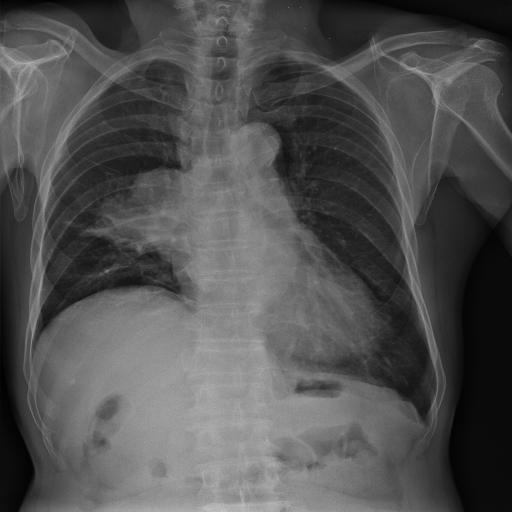Aortic enlargement: (206, 93, 258, 150)
Atelectasis: (73, 139, 145, 201)
Cardiomegaly: (60, 168, 276, 298)
Consolidation: (44, 117, 140, 215)
Lung Opacity: (73, 139, 145, 201)
Nodule-Mass: (61, 128, 144, 208)
Other lesion: (0, 242, 115, 327)
Pulmonary fibrosis: (30, 205, 116, 238)
